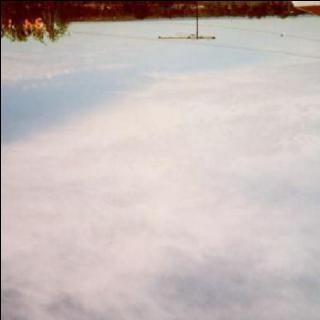Cirrostratus: (0, 33, 320, 320)
